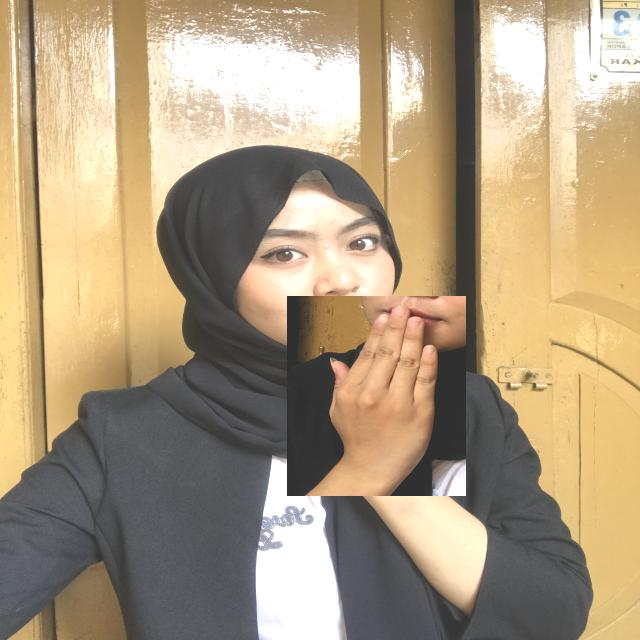ganteng: (287, 296, 466, 496)
